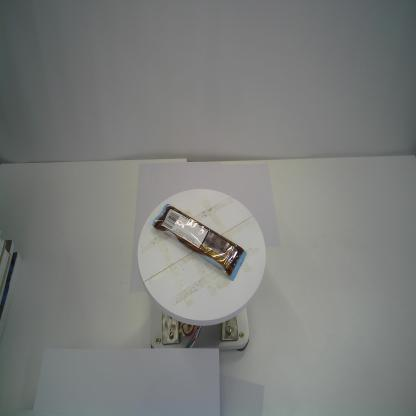Chocolate: (150, 202, 248, 282)
